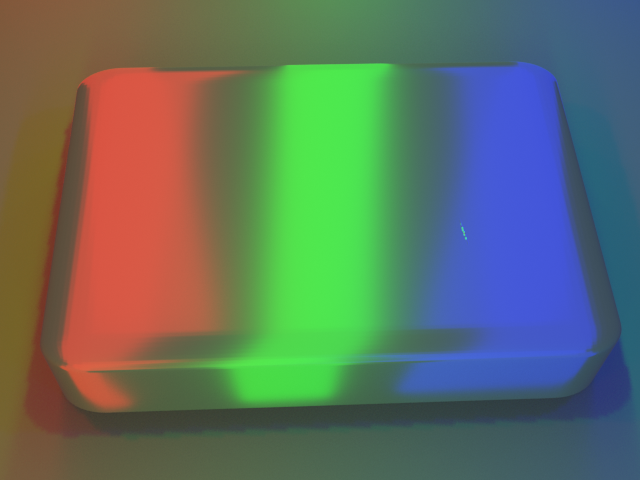scratch: (419, 196, 541, 267)
